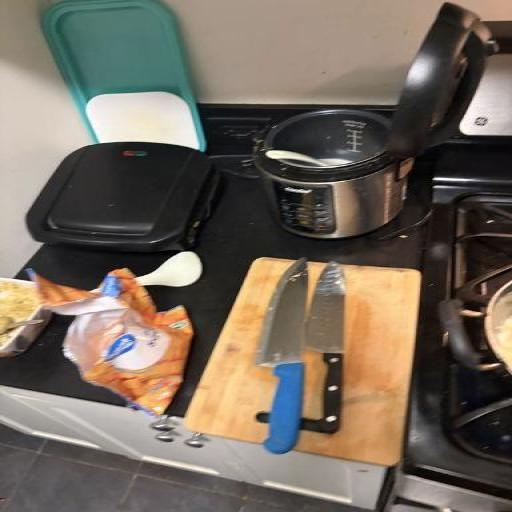knife: (252, 259, 320, 473), (315, 261, 358, 466)
